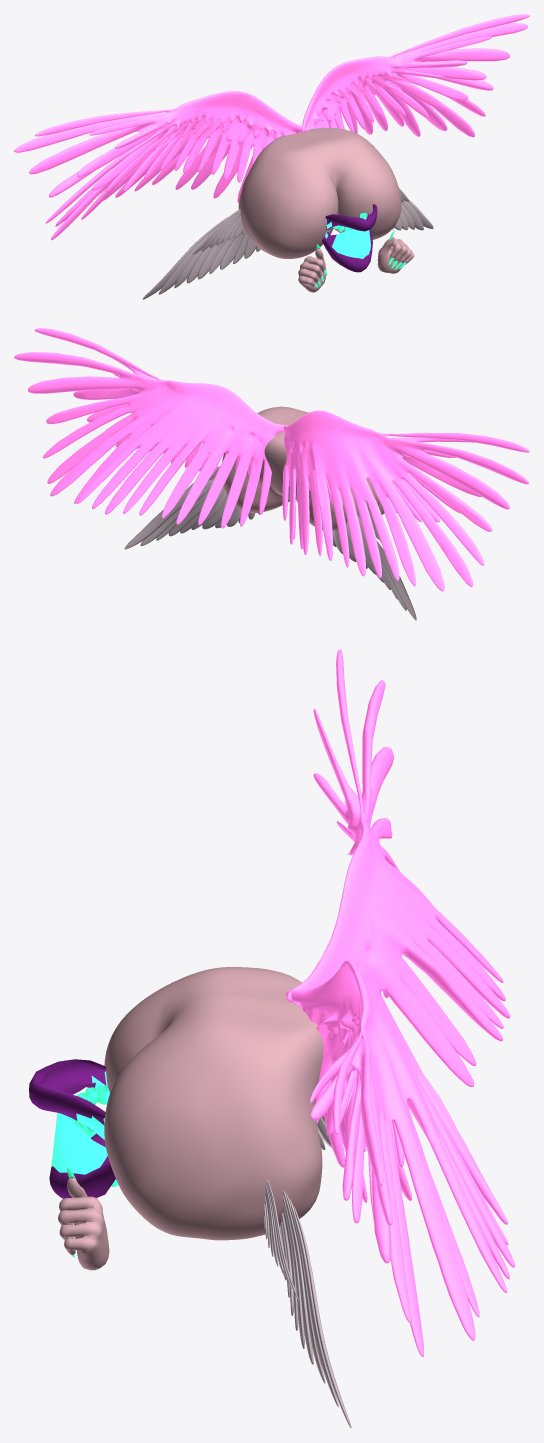
File: ass.glb
3 renders of one model, top to bottom at view 1: azimuth 30°, elevation 25°; view 2: azimuth 150°, elevation 25°; view 3: azimuth 270°, elevation 25°, orthographic. The views are drawn at different scales.
Visible parts, largest first — view 1: big_wing_1, ass, big_wing, wings_smol_1, mouth, hand_l, hand_r, wings_smol; view 2: big_wing, big_wing_1, ass, wings_smol, wings_smol_1; view 3: ass, big_wing, big_wing_1, mouth, wings_smol, hand_l.
Part boxes in pixels (x1,y1,x2,y2): big_wing_1: [14, 91, 306, 240]; ass: [238, 128, 401, 258]; big_wing: [302, 14, 529, 137]; wings_smol_1: [142, 209, 260, 299]; mouth: [322, 204, 377, 272]; hand_l: [377, 230, 414, 273]; hand_r: [298, 244, 327, 292]; wings_smol: [392, 188, 433, 230]; big_wing: [14, 328, 287, 528]; big_wing_1: [282, 410, 529, 591]; ass: [222, 406, 379, 531]; wings_smol: [124, 466, 259, 549]; wings_smol_1: [332, 508, 416, 620]; ass: [104, 967, 323, 1240]; big_wing: [286, 960, 514, 1356]; big_wing_1: [286, 649, 510, 1151]; mouth: [29, 1059, 118, 1198]; wings_smol: [263, 1179, 351, 1427]; hand_l: [58, 1168, 109, 1270].
Bounding box in the file's own units: 1.62 × 0.5984 × 0.6655.
